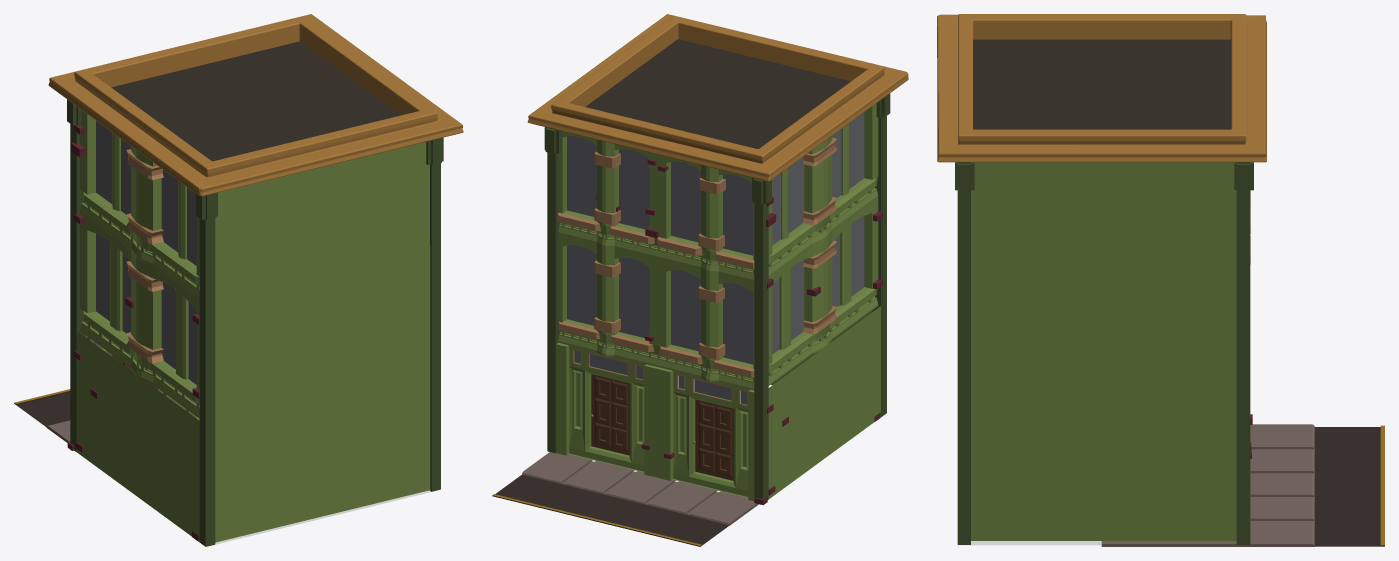
The model's file is LowPolyBuilding3.fbx.
The picture shows the model from 3 angles, left to right: view 1: azimuth 30°, elevation 25°; view 2: azimuth 150°, elevation 25°; view 3: azimuth 270°, elevation 25°; orthographic projection. The views are drawn at different scales.
Parts seen in each view (by area): view 1: Parede.081, Parede.082, Teto.008, Parede.083, Teto.009, Parede.080, Parede.077, Parede.079, Pilastra.017, Pilastra.019, Janela.062, Pilastra.016 (+4 smaller); view 2: Teto.008, Teto.009, Parede.075, Parede.080, Parede.076, Parede.078, Parede.077, Parede.079, Calçada.004, Rua.004, Pilastra.016, Pilastra.018 (+18 smaller); view 3: Parede.084, Parede.085, Parede.086, Teto.008, Teto.009, Calçada.004, Rua.004, Pilastra.018, Pilastra.019, BasePredio.004, Listra Amarela.004.
Part boxes in pixels (bbox=[...]): Parede.081: bbox=[215, 367, 430, 542]; Parede.082: bbox=[215, 245, 430, 419]; Teto.008: bbox=[48, 14, 463, 196]; Parede.083: bbox=[215, 142, 429, 297]; Teto.009: bbox=[111, 41, 400, 161]; Parede.080: bbox=[77, 331, 199, 541]; Parede.077: bbox=[80, 213, 199, 418]; Parede.079: bbox=[80, 110, 199, 299]; Pilastra.017: bbox=[196, 192, 217, 546]; Pilastra.019: bbox=[426, 137, 443, 491]; Janela.062: bbox=[96, 233, 196, 384]; Pilastra.016: bbox=[67, 99, 85, 452]; Teto.008: bbox=[527, 14, 908, 181]; Teto.009: bbox=[585, 39, 850, 148]; Parede.075: bbox=[556, 343, 754, 501]; Parede.080: bbox=[768, 306, 880, 498]; Parede.076: bbox=[558, 234, 754, 390]; Parede.078: bbox=[558, 131, 754, 281]; Parede.077: bbox=[768, 197, 878, 385]; Parede.079: bbox=[768, 103, 878, 276]; Calçada.004: bbox=[522, 452, 758, 525]; Rua.004: bbox=[492, 474, 729, 546]; Pilastra.016: bbox=[752, 177, 771, 499]; Pilastra.018: bbox=[544, 127, 561, 453]; Parede.084: bbox=[971, 407, 1236, 540]; Parede.085: bbox=[971, 275, 1236, 407]; Parede.086: bbox=[971, 162, 1236, 274]; Teto.008: bbox=[937, 14, 1266, 162]; Teto.009: bbox=[973, 39, 1231, 129]; Calçada.004: bbox=[1101, 424, 1314, 546]; Rua.004: bbox=[1315, 427, 1384, 546]; Pilastra.018: bbox=[1234, 162, 1253, 544]; Pilastra.019: bbox=[955, 162, 974, 544]; BasePredio.004: bbox=[961, 541, 1101, 545]; Listra Amarela.004: bbox=[1380, 425, 1384, 545].
Bounding box in the file's own units: 233 × 322 × 316.
